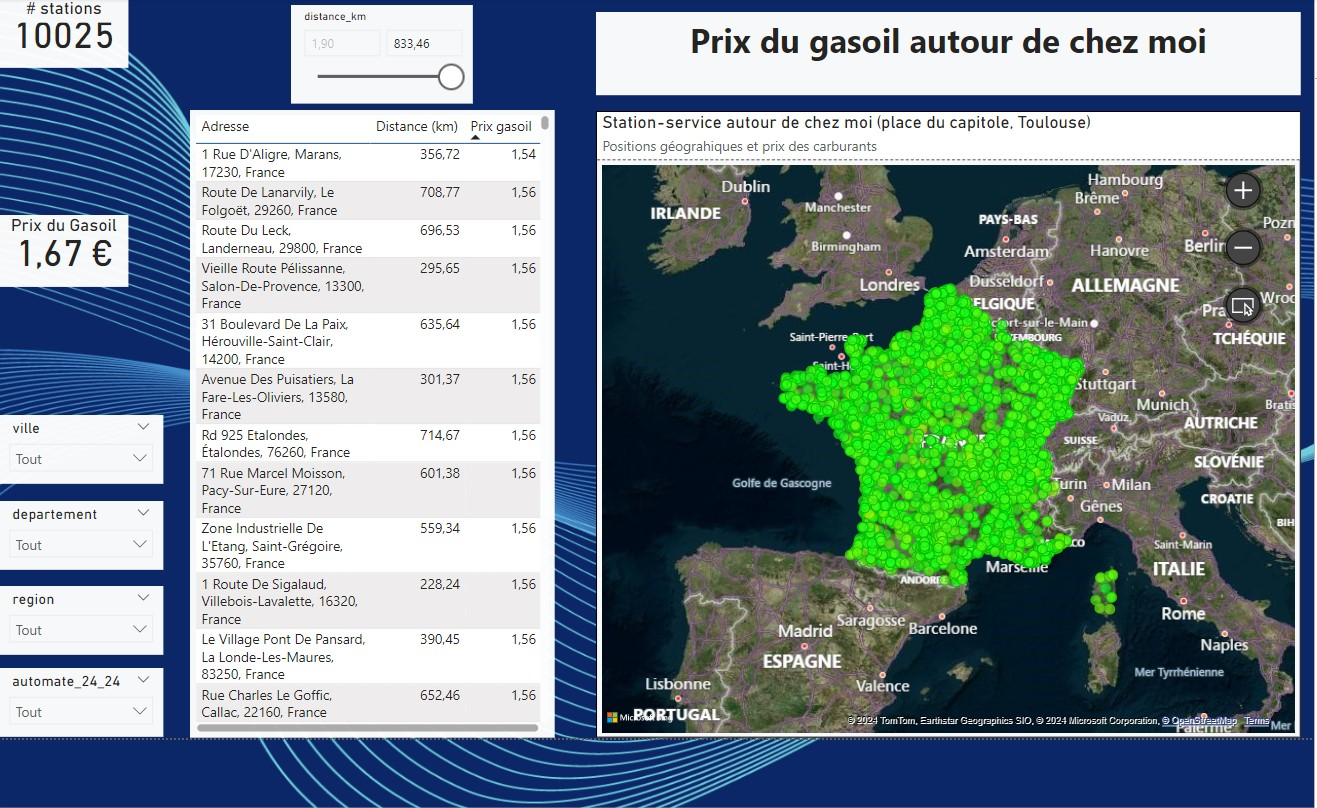

What the dashboard file says about the page in this screenshot:
{"tool":"powerbi","page":{"name":"Page 1","canvas":[1280,720],"ordinal":0},"visuals":[{"type":"slicer","fields":{"Values":["2-nb_villes_fr.ville"]},"box":[0,405.6,159.5,67.1],"z":1000},{"type":"map","title":"Station-service autour de chez moi (place du capitole, Toulouse)","fields":{"Category":["8-prix_distances_km.adresse_complete","8-prix_distances_km.region"],"Y":["Avg(8-prix_distances_km.latitude)"],"X":["Avg(8-prix_distances_km.longitude)"]},"box":[580.7,109.9,685.7,609.8],"z":8001},{"type":"slicer","fields":{"Values":["2-dim-departement.departement"]},"box":[0,489.2,159.5,67.1],"z":8002},{"type":"slicer","fields":{"Values":["3-dim-regions.region"]},"box":[0,571.9,159.5,67.1],"z":8003},{"type":"slicer","fields":{"Values":["4-dim-automates.automate_24_24"]},"box":[0,652.6,159.5,67.1],"z":8004},{"type":"card","title":"Prix du Gasoil","fields":{"Values":["Avg(8-prix_distances_km.prix_gazole)"]},"box":[0,211.1,126.4,70],"z":8005},{"type":"tableEx","fields":{"Values":["8-prix_distances_km.adresse_complete","Avg(8-prix_distances_km.distance_km)","Sum(8-prix_distances_km.prix_gazole)"]},"box":[185.8,108.9,355,610.8],"z":8008},{"type":"slicer","fields":{"Values":["8-prix_distances_km.distance_km"]},"box":[284,6.8,177,96.3],"z":8009},{"type":"card","title":"# stations","fields":{"Values":["Sum(Requête1.nb_stations)"]},"box":[0,0,126.4,68.1],"z":8010},{"type":"textbox","box":[580.7,13.6,685.7,80.7],"z":8011}]}

Visuals, with their boxes in screenshot pixels (x1, y1, x2, y2):
slicer - 2-nb_villes_fr.ville: Rect(3, 412, 165, 480)
"Station-service autour de chez moi (place du capitole, Toulouse)" map: Rect(593, 112, 1288, 730)
slicer - 2-dim-departement.departement: Rect(3, 496, 165, 564)
slicer - 3-dim-regions.region: Rect(3, 580, 165, 648)
slicer - 4-dim-automates.automate_24_24: Rect(3, 662, 165, 730)
"Prix du Gasoil" card: Rect(3, 214, 132, 285)
tableEx - 8-prix_distances_km.adresse_complete x Avg(8-prix_distances_km.distance_km): Rect(192, 110, 552, 730)
slicer - 8-prix_distances_km.distance_km: Rect(292, 7, 471, 105)
"# stations" card: Rect(3, 0, 132, 69)
textbox: Rect(593, 14, 1288, 96)
